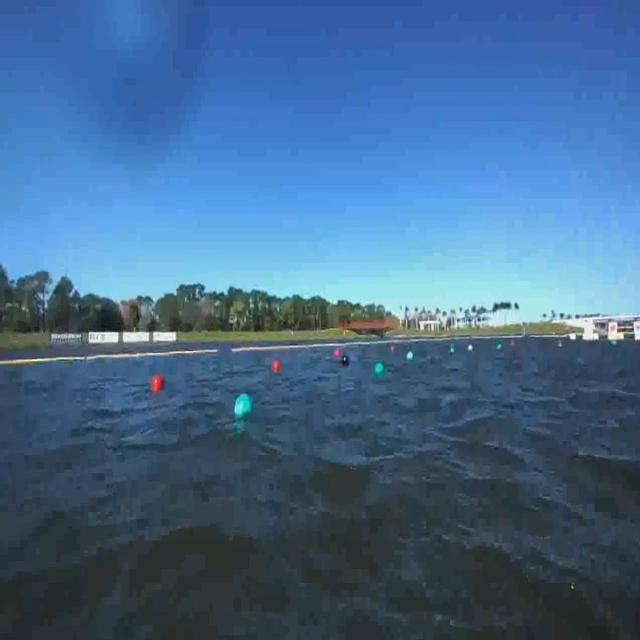black-buoy: (342, 355, 350, 367)
green-buoy: (233, 395, 250, 422), (376, 361, 385, 375)
red-buoy: (152, 375, 164, 395), (274, 360, 281, 372)
